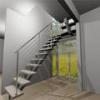stairs: (10, 32, 60, 94)
